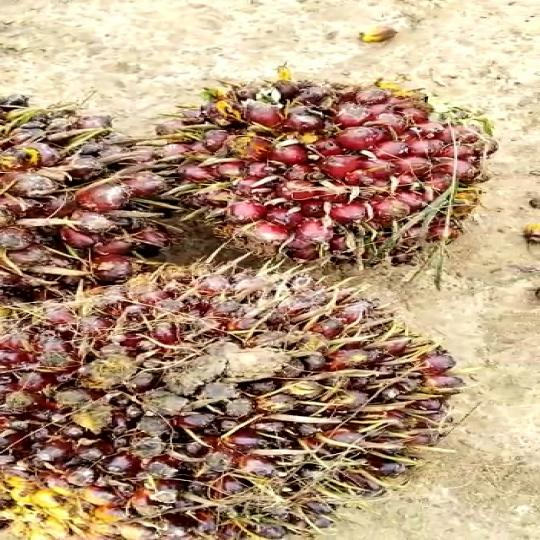kurang masak: (0, 243, 477, 540), (160, 70, 508, 259)
